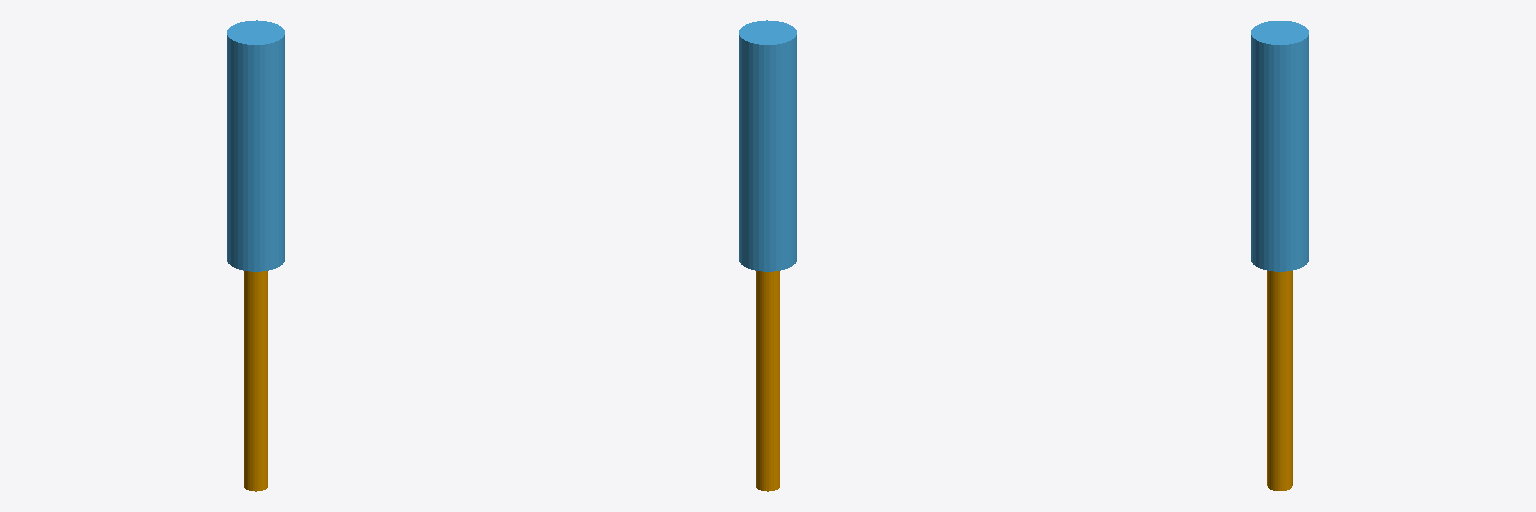
robot.urdf — screwdriver_on_the_table:
<?xml version="1.0" ?>
<!-- this is the one without any virtual joints and links -->
<robot name="screwdriver_on_the_table">
<link name="screwdriver_stick">
    <inertial>
      <mass value="0.05"/>
      <!-- <friction value="1.0"/> -->
      <inertia ixx="0.000041979" ixy="0.0" ixz="0.0" iyy="0.000041979" iyz="0.0" izz="0.000000625"/>
    </inertial>
    <visual>
        <origin rpy="0 0 0" xyz="0 0 0.05"/>
        <geometry>
            <cylinder radius="0.005" length="0.1"/>
        </geometry>
        <!-- <material name="White">
	 	    <color rgba="0.9 0.9 0.9 0.5"/>
        </material> -->
    </visual>
    <collision>
        <origin rpy="0 0 0" xyz="0 0 0.05"/>
        <geometry>
            <cylinder radius="0.005" length="0.1"/>
        </geometry>
    </collision>
</link>

<gazebo reference="screwdriver_body">
    <mu1>0.409091</mu1>
    <mu2>0.356540</mu2>
    <!-- Isaac Sim maps mu1/mu2 to PhysX static/dynamic friction during URDF→USD import -->
</gazebo>

<joint name="screwdriver_stick_body_joint" type="fixed">
    <parent link="screwdriver_stick"/>
    <child link="screwdriver_body"/>
    <origin rpy="0 0 0" xyz="0 0 0.1"/> 
    <axis xyz="0 0 1"/>
</joint>

<link name="screwdriver_body">
    <inertial>
      <mass value="0.126429"/>
      <inertia ixx="0.000109643" ixy="0.0" ixz="0.0" iyy="0.000109643" iyz="0.0" izz="0.000010000"/>
    </inertial>
    <visual>
        <origin rpy="0 0 0" xyz="0 0 0.05"/>
        <geometry>
            <cylinder radius="0.011645" length="0.1"/>
        </geometry>
        <!-- <material name="Red1">
	 	    <color rgba="0.9 0. 0. 0.5"/>
        </material> -->
    </visual>
    <collision>
        <origin rpy="0 0 0" xyz="0 0 0.05"/>
        <geometry>
            <cylinder radius="0.011645" length="0.1"/>
        </geometry>
    </collision>
</link>

<!-- <joint name="screwdriver_body_cap_joint" type="revolute">
    <parent link="screwdriver_body"/>
    <child link="screwdriver_cap"/>
    <origin rpy="0 0 0" xyz="0 0 0.1"/> 
    <axis xyz="0 0 1"/>
</joint>

<link name="screwdriver_cap">
    <inertial>
      <mass value="0.005"/>
      <inertia ixx="0.00001" ixy="0.0" ixz="0.0" iyy="0.000005" iyz="0.0" izz="0.000005"/>
    </inertial>
    <visual>
        <origin rpy="0 0 0" xyz="0 0 0.0006"/>
        <geometry>
            <cylinder radius="0.02" length="0.001"/>
        </geometry>
        <material name="Yellow">
	 	    <color rgba="0.9 0.9 0. 1.0"/>
        </material>
    </visual>
    <collision>
        <origin rpy="0 0 0" xyz="0 0 0.0005"/>
        <geometry>
            <cylinder radius="0.02" length="0.001"/>
        </geometry>
    </collision>
</link> -->

</robot>

--- Facts derived from the render (not from the file) ---
Views: 3 orthographic renders of the robot side by side, from view 1: azimuth 30°, elevation 25°; view 2: azimuth 150°, elevation 25°; view 3: azimuth 270°, elevation 25°.
Model screwdriver_on_the_table with 2 links and 1 joints (1 fixed), rooted at screwdriver_stick, posed all joints at 0.
Visible links, largest first — view 1: screwdriver_body, screwdriver_stick; view 2: screwdriver_body, screwdriver_stick; view 3: screwdriver_body, screwdriver_stick.
Boxes of the visible links, x1,y1,x2,y2 form: screwdriver_body: (227, 20, 284, 271); screwdriver_stick: (244, 271, 267, 491); screwdriver_body: (739, 20, 796, 271); screwdriver_stick: (756, 271, 779, 491); screwdriver_body: (1251, 21, 1308, 271); screwdriver_stick: (1267, 271, 1292, 490).
Size in the robot's own frame: 0.0233 by 0.0233 by 0.2 metres.
Geometry: primitives only (box / cylinder / sphere), no mesh files.
